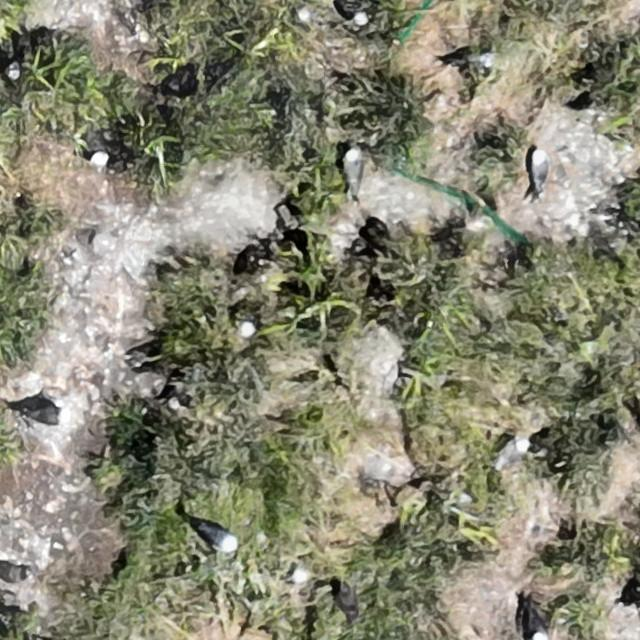umineko: (80, 125, 108, 167), (453, 50, 506, 69), (204, 526, 238, 552), (497, 438, 528, 466), (343, 148, 361, 190), (532, 150, 549, 187), (341, 4, 372, 24), (530, 610, 550, 640), (29, 406, 62, 424), (0, 563, 28, 583), (340, 584, 356, 614), (237, 317, 257, 337)
